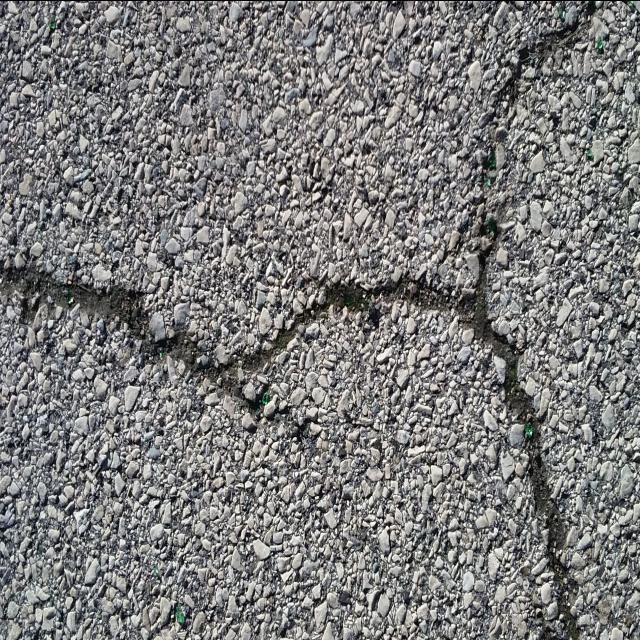Crack: (0, 0, 604, 640)
